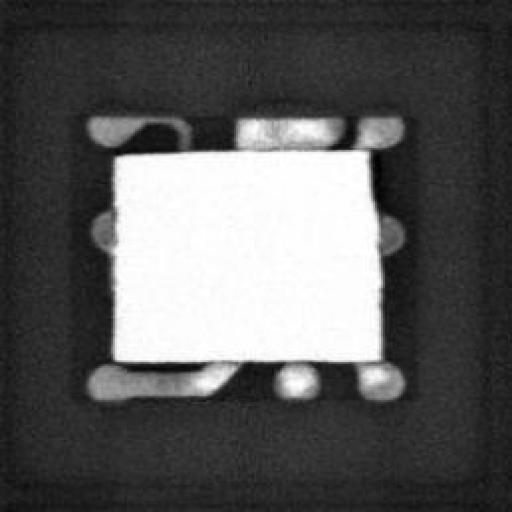DIE_BROKEN: (361, 144, 381, 213)
